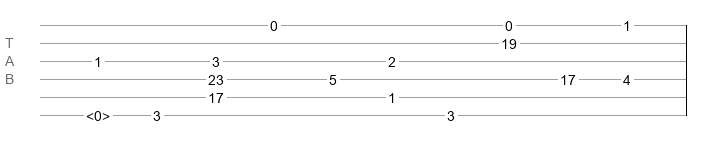0: (270, 18, 278, 28), (505, 18, 513, 28)
1: (94, 54, 102, 64), (388, 90, 396, 100), (623, 18, 631, 28)
17: (208, 90, 224, 100), (560, 72, 576, 82)
19: (501, 36, 517, 46)
2: (388, 54, 396, 64)
23: (208, 72, 224, 82)
3: (153, 108, 161, 118), (212, 54, 220, 64), (447, 108, 455, 118)
4: (623, 72, 631, 82)
5: (329, 72, 337, 82)
harmonic: (86, 108, 110, 118)
